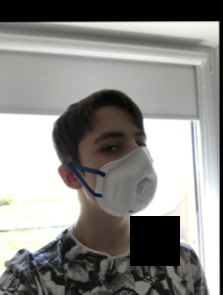with_mask: (87, 123, 158, 218)
